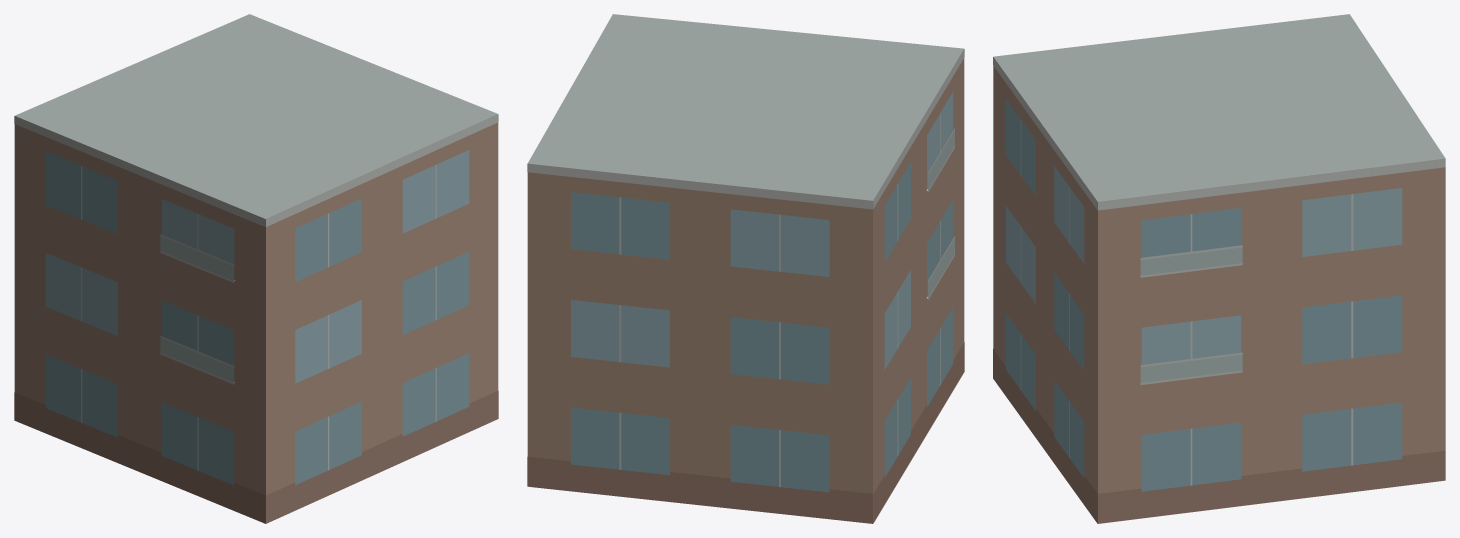
The model's file is survey-upis-32652948.glb.
3 views of the same model, side by side, from view 1: azimuth 30°, elevation 25°; view 2: azimuth 150°, elevation 25°; view 3: azimuth 270°, elevation 25° (orthographic). The views are drawn at different scales.
Parts seen in each view (by area): view 1: survey-upis-32652948.tmp; view 2: survey-upis-32652948.tmp; view 3: survey-upis-32652948.tmp.
Part boxes in pixels (x1,y1,x2,y2): survey-upis-32652948.tmp: [14, 14, 498, 523]; survey-upis-32652948.tmp: [527, 14, 964, 523]; survey-upis-32652948.tmp: [993, 14, 1445, 523].
Size of the model in its own units: 11.47 by 9.15 by 11.67.
